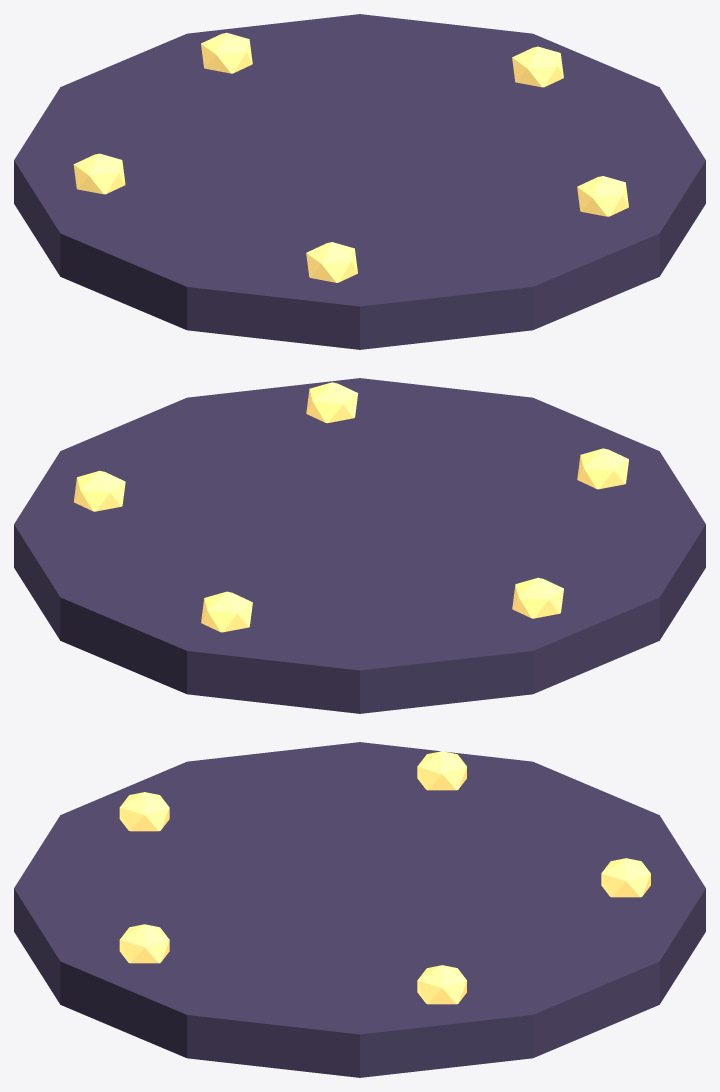
Rendered from ember_clue_plaque.glb.
3 views of the same model, one above another, from view 1: azimuth 30°, elevation 25°; view 2: azimuth 150°, elevation 25°; view 3: azimuth 270°, elevation 25° (orthographic).
Parts seen in each view (by area): view 1: Plaque, Notch.004, Notch.003, Notch, Notch.001, Notch.002; view 2: Plaque, Notch, Notch.004, Notch.001, Notch.002, Notch.003; view 3: Plaque, Notch.003, Notch.002, Notch, Notch.001, Notch.004.
Boxes of the visible parts, x1,y1,x2,y2 form: Plaque: (14,14,705,349); Notch.004: (73,153,125,194); Notch.003: (306,242,357,282); Notch: (201,32,252,73); Notch.001: (512,46,563,87); Notch.002: (577,176,628,216); Plaque: (14,378,705,713); Notch: (201,591,252,632); Notch.004: (512,577,563,618); Notch.001: (74,470,125,511); Notch.002: (306,382,358,423); Notch.003: (577,448,628,489); Plaque: (14,742,705,1077); Notch.003: (119,792,169,831); Notch.002: (119,924,169,963); Notch: (601,858,650,897); Notch.001: (417,965,466,1004); Notch.004: (417,751,466,790).
Size of the model in its own units: 5.2 by 0.61 by 5.2.
